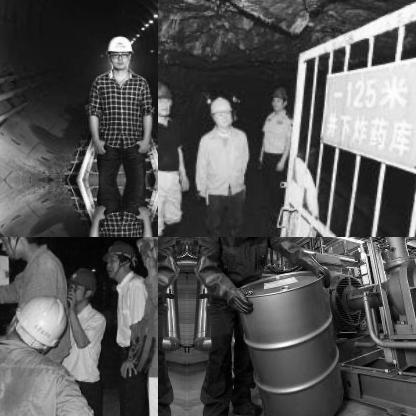Helmet: (7, 292, 67, 352), (100, 238, 138, 280), (67, 264, 96, 304), (104, 30, 132, 70), (208, 93, 234, 129), (0, 237, 41, 259), (265, 82, 287, 110), (158, 75, 172, 117), (140, 237, 157, 266)
